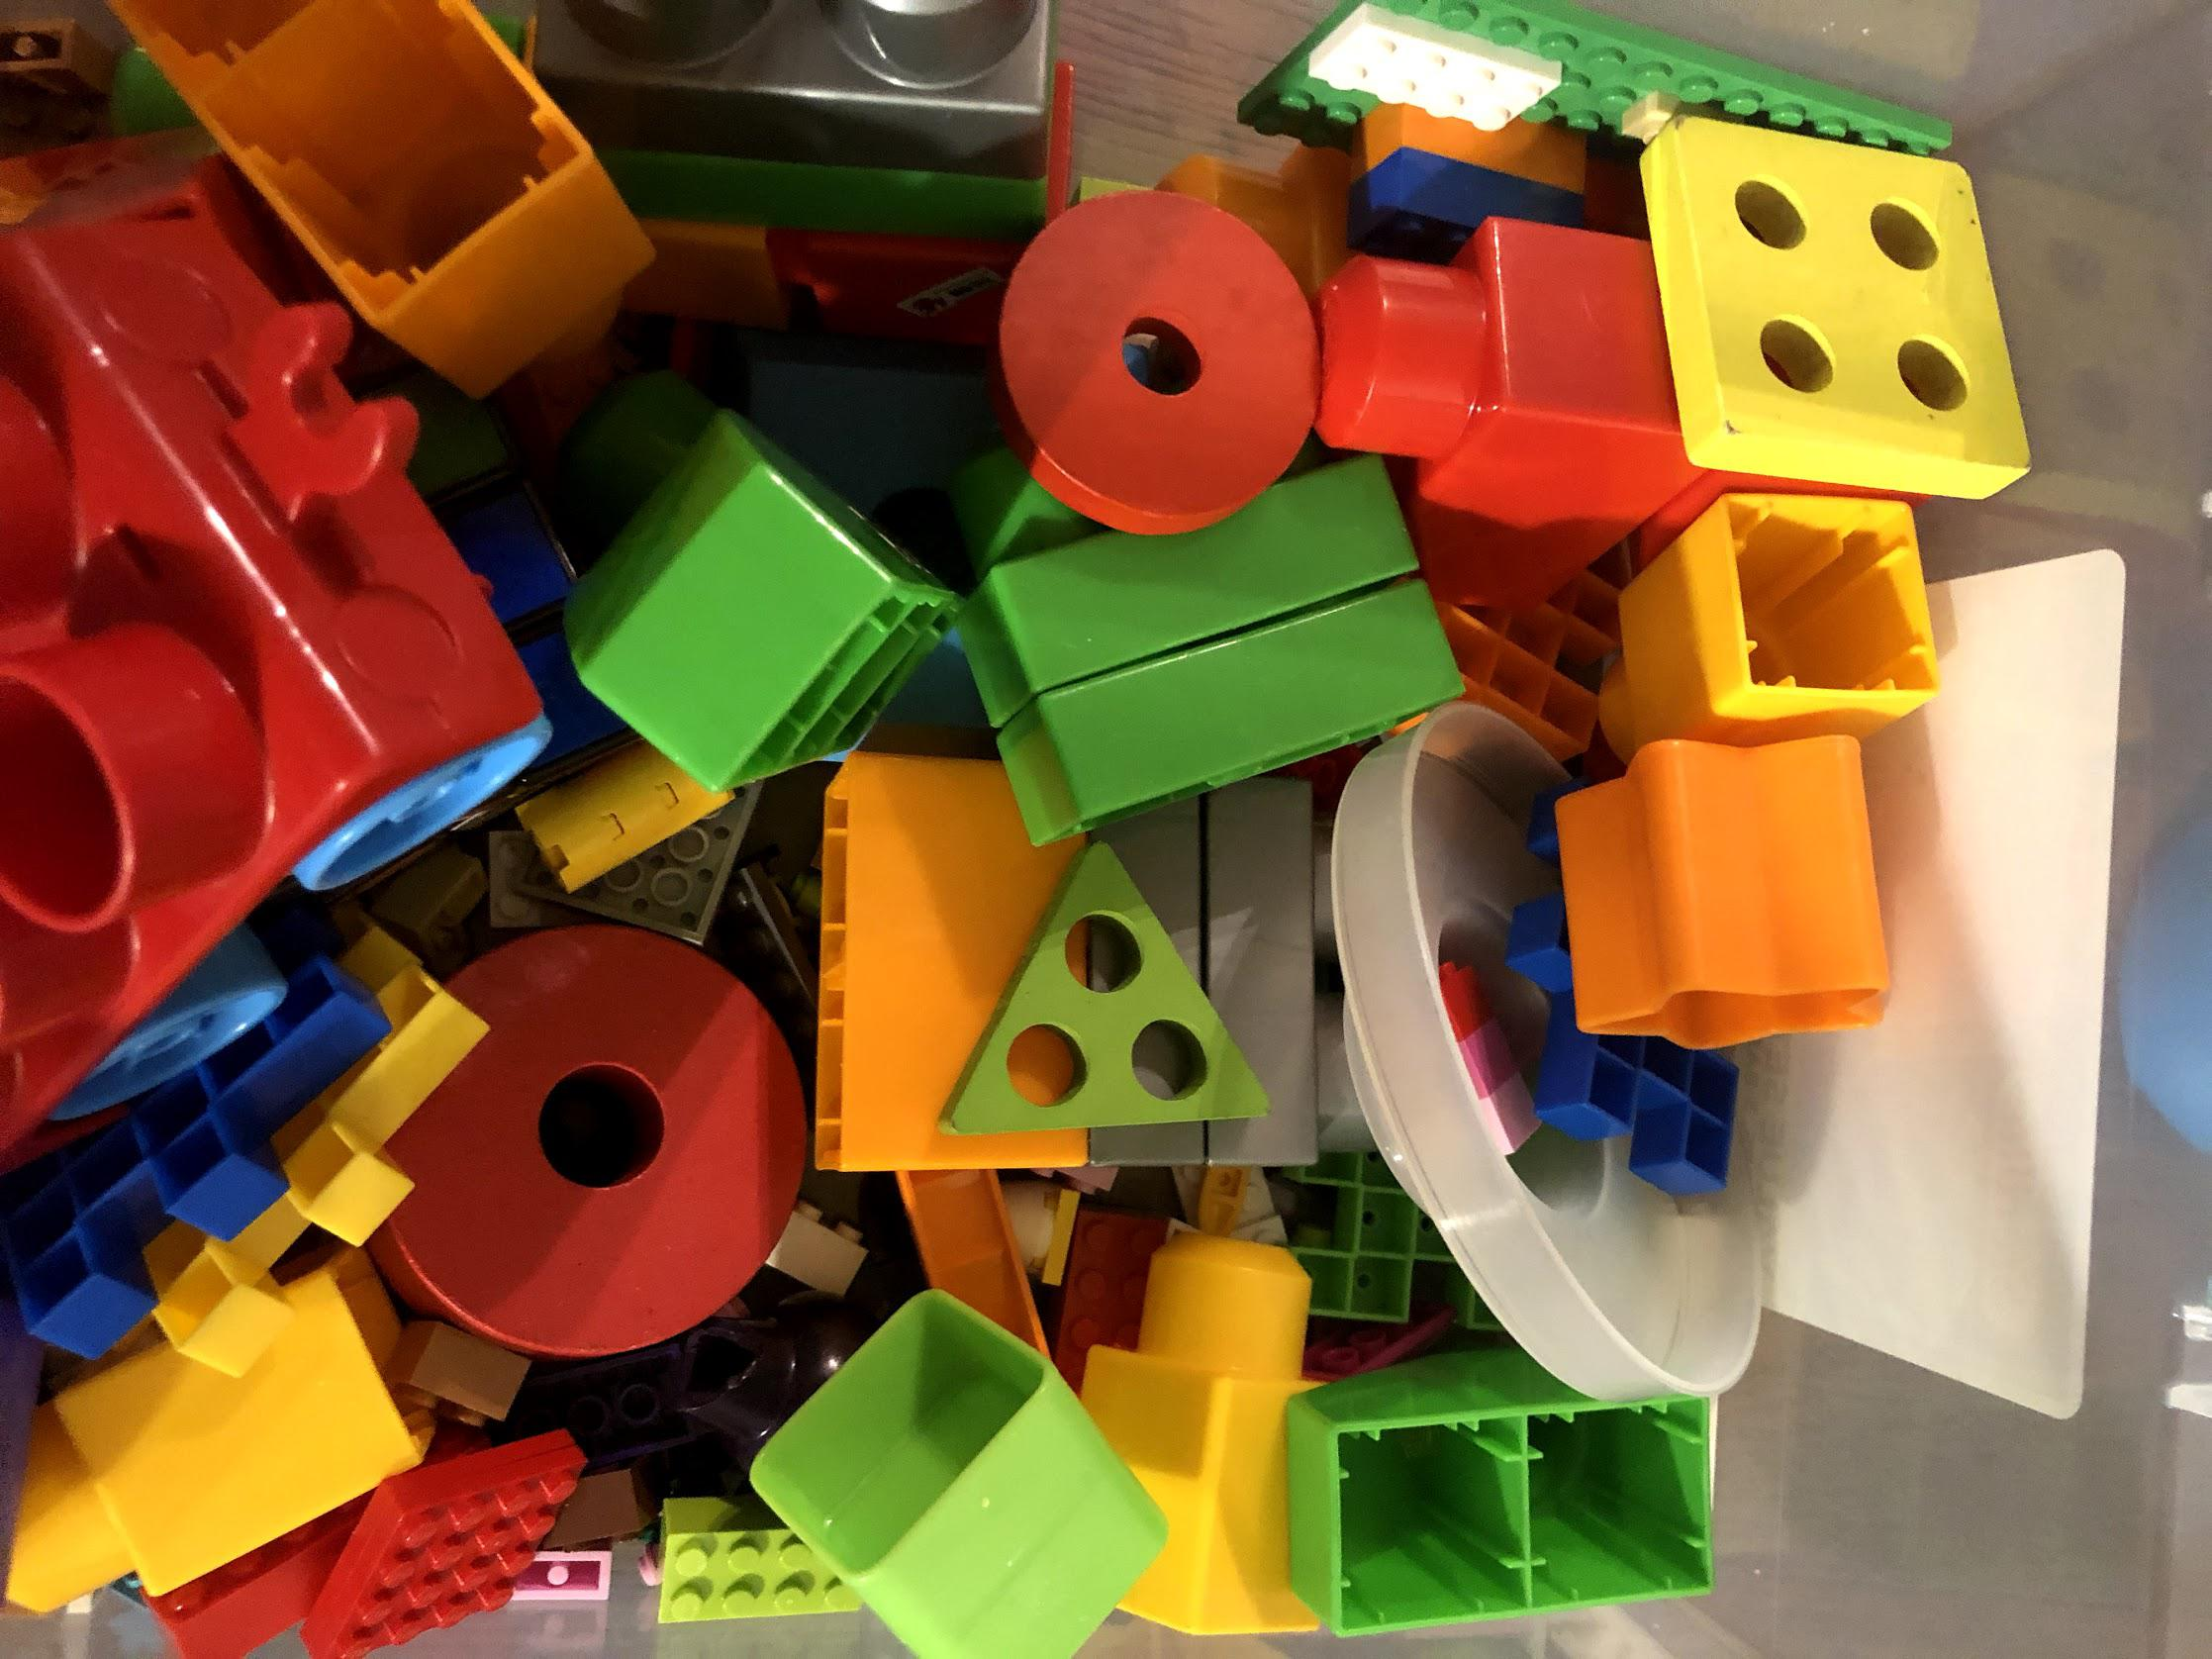Circle: (397, 936, 817, 1352), (1000, 186, 1322, 530)
Square: (1648, 118, 2027, 493)
Triangle: (946, 836, 1275, 1131)
